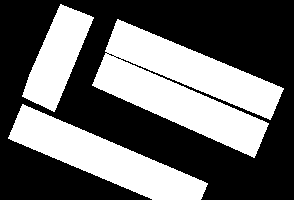parkingspot: (8, 104, 207, 200), (92, 53, 268, 157), (105, 19, 283, 119), (22, 4, 93, 111)
